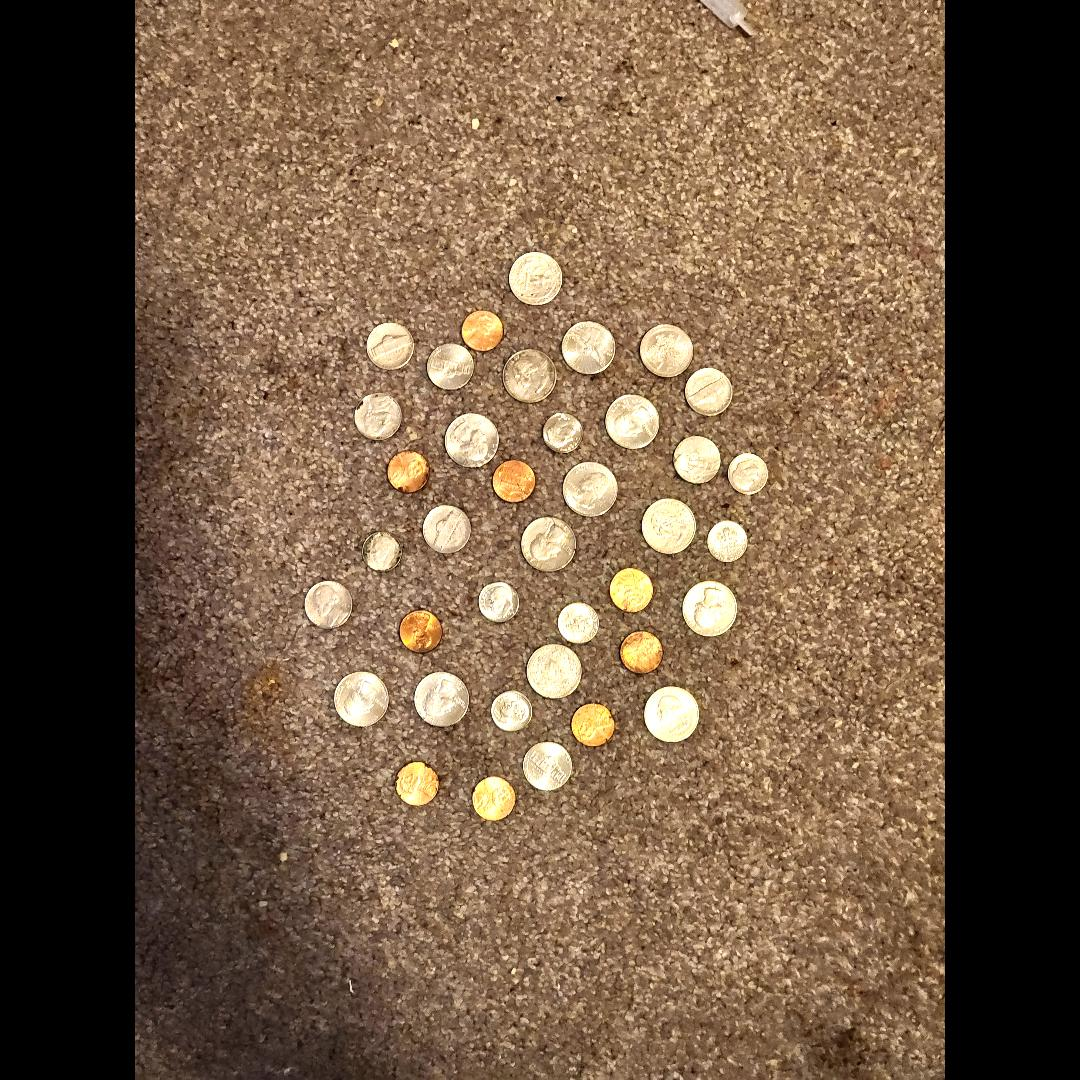Dime: (488, 690, 532, 736), (708, 516, 750, 564), (557, 602, 599, 648), (479, 579, 521, 623), (544, 413, 584, 457), (729, 452, 769, 494), (362, 535, 402, 575)
Nickel: (304, 577, 358, 633), (672, 432, 724, 488), (520, 738, 572, 792), (684, 364, 736, 416), (422, 502, 474, 554), (427, 339, 477, 391), (354, 392, 404, 443), (366, 323, 414, 373)
Penny: (393, 761, 442, 809), (397, 609, 445, 658), (621, 626, 667, 675), (570, 704, 618, 750), (608, 566, 654, 614), (470, 774, 516, 822), (493, 457, 538, 505), (460, 310, 504, 352), (387, 451, 431, 493)
Quarter: (642, 686, 704, 747), (680, 580, 741, 638), (334, 670, 392, 730), (605, 390, 663, 450), (525, 641, 583, 701), (638, 322, 696, 380), (414, 670, 472, 728), (520, 514, 578, 572), (639, 497, 696, 555), (440, 412, 499, 468), (559, 320, 617, 376), (508, 252, 564, 308), (563, 460, 619, 516), (503, 346, 555, 404)
